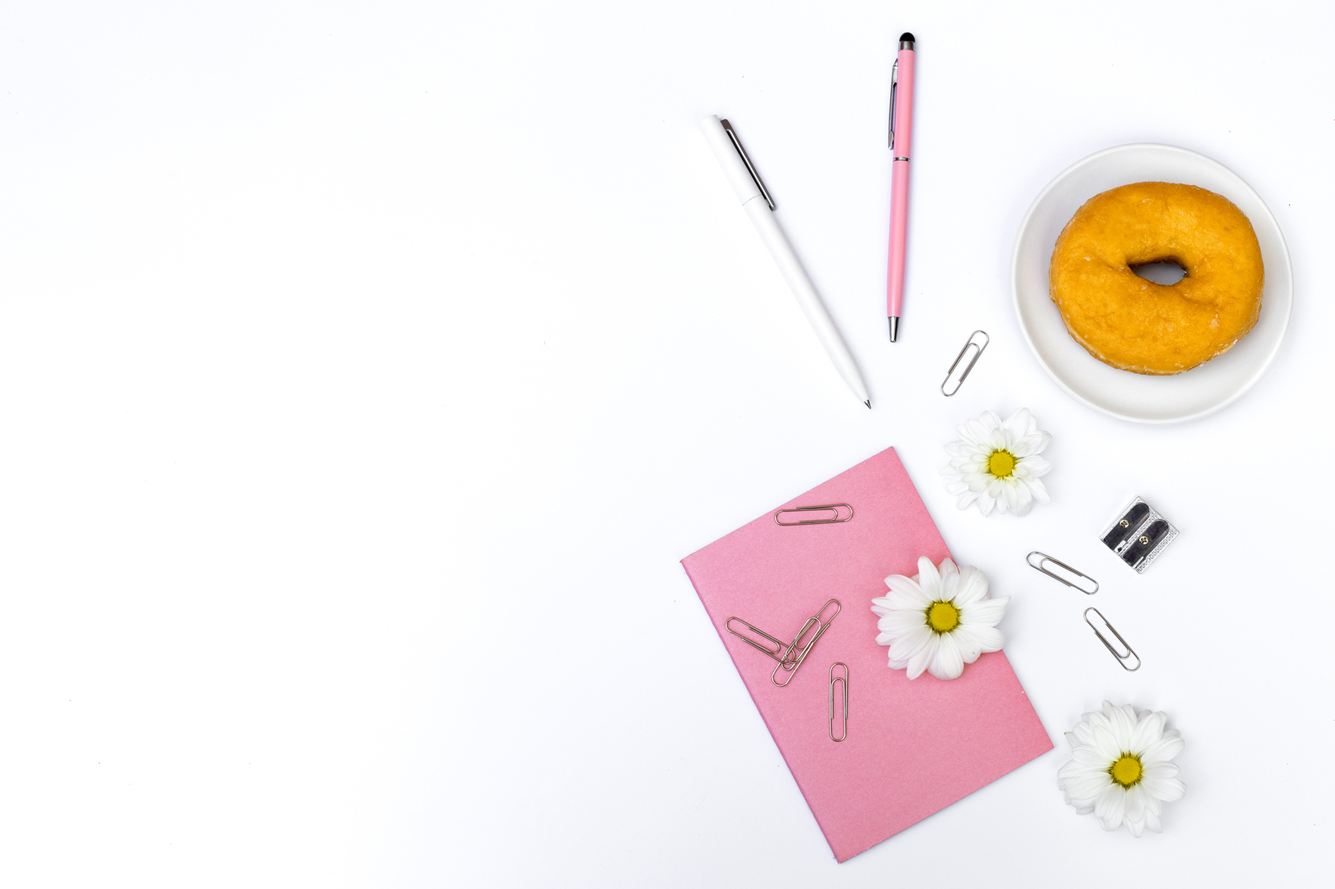not a gesture sign: (1053, 221, 1263, 374), (872, 557, 1009, 679)
